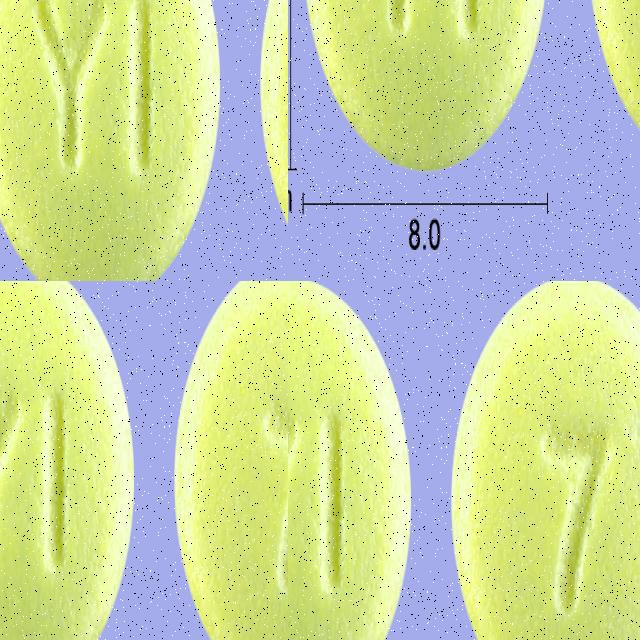Levopa: (451, 281, 640, 640), (288, 281, 410, 640)
Levotwo: (301, 0, 550, 171)
Omnicef Cap: (56, 166, 288, 281)
Unifixime Cap: (19, 495, 209, 640)
